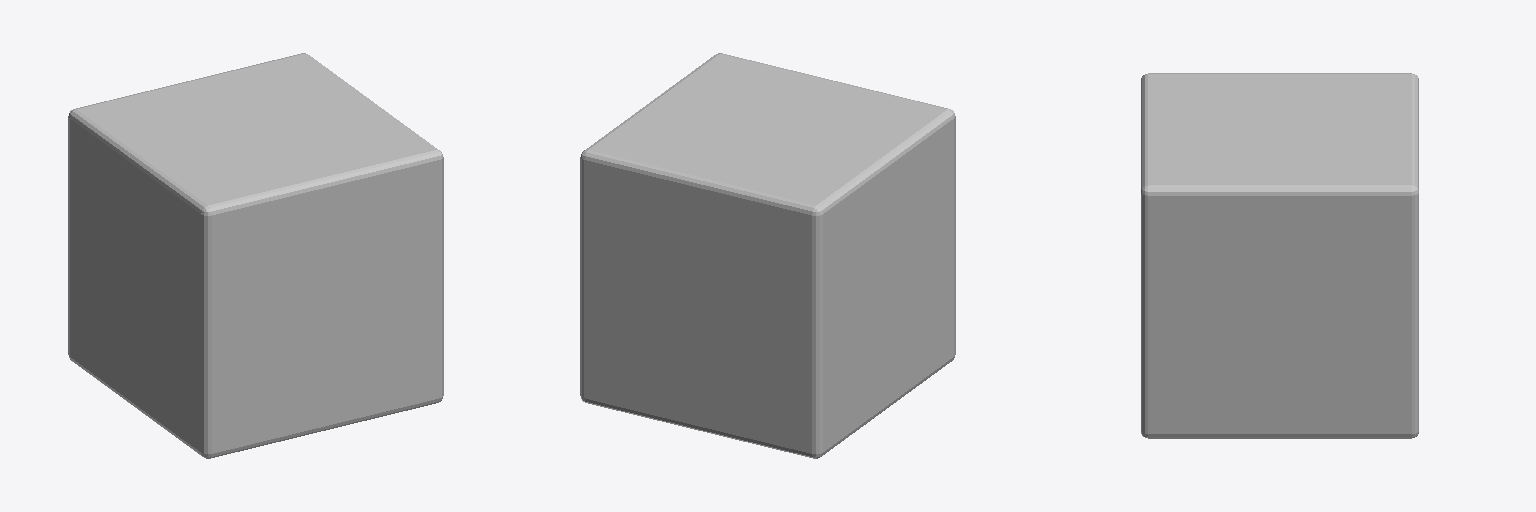
The model's file is cube_bevel03.obj.
The picture shows the model from 3 angles: view 1: azimuth 30°, elevation 25°; view 2: azimuth 150°, elevation 25°; view 3: azimuth 270°, elevation 25°; orthographic projection.
Parts seen in each view (by area): view 1: Cube.004; view 2: Cube.004; view 3: Cube.004.
Boxes of the visible parts, x1,y1,x2,y2 form: Cube.004: [68, 53, 443, 458]; Cube.004: [580, 53, 955, 458]; Cube.004: [1141, 73, 1418, 438].
Bounding box in the file's own units: 2 × 2 × 2.